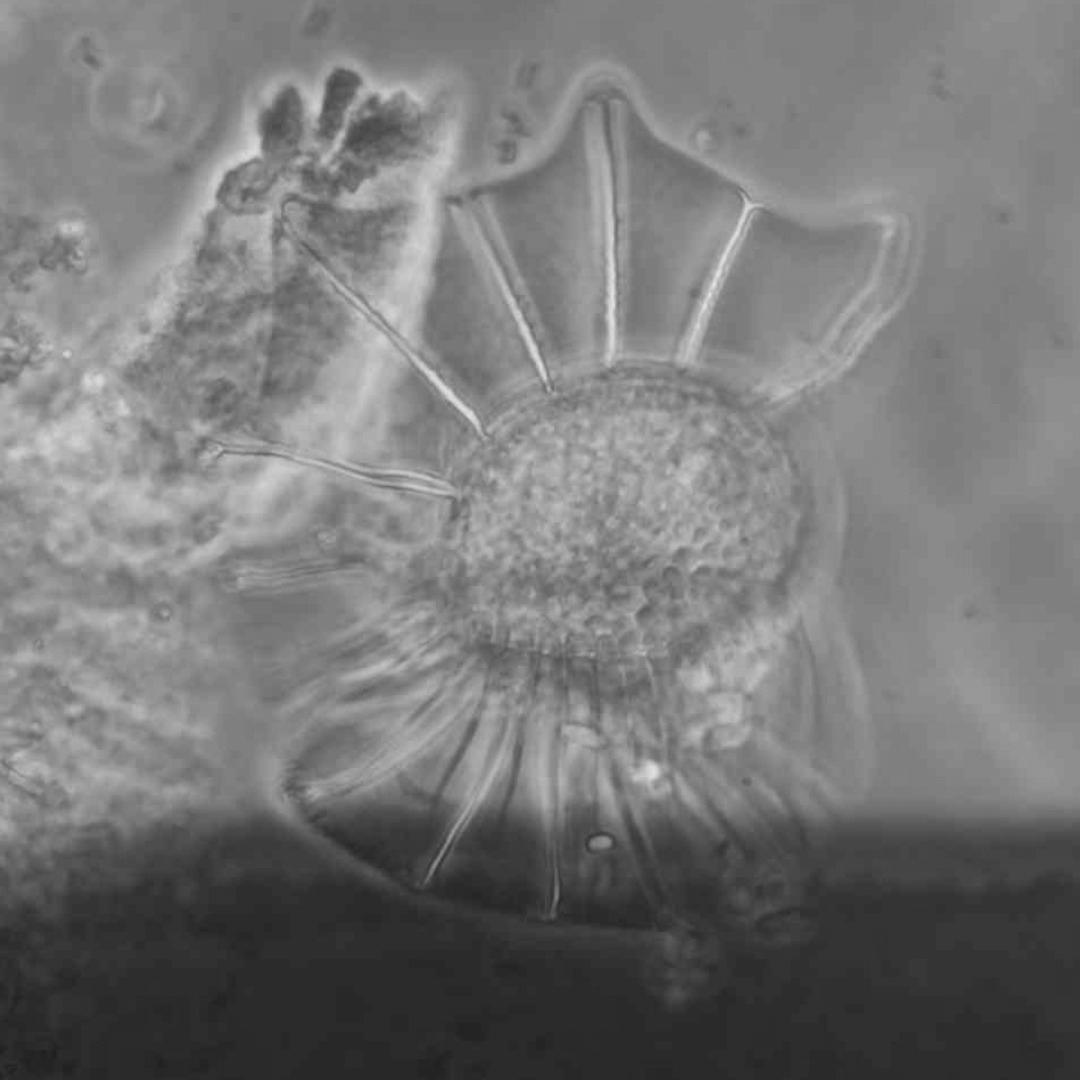ornithocercus_thumii: (210, 73, 920, 943)
